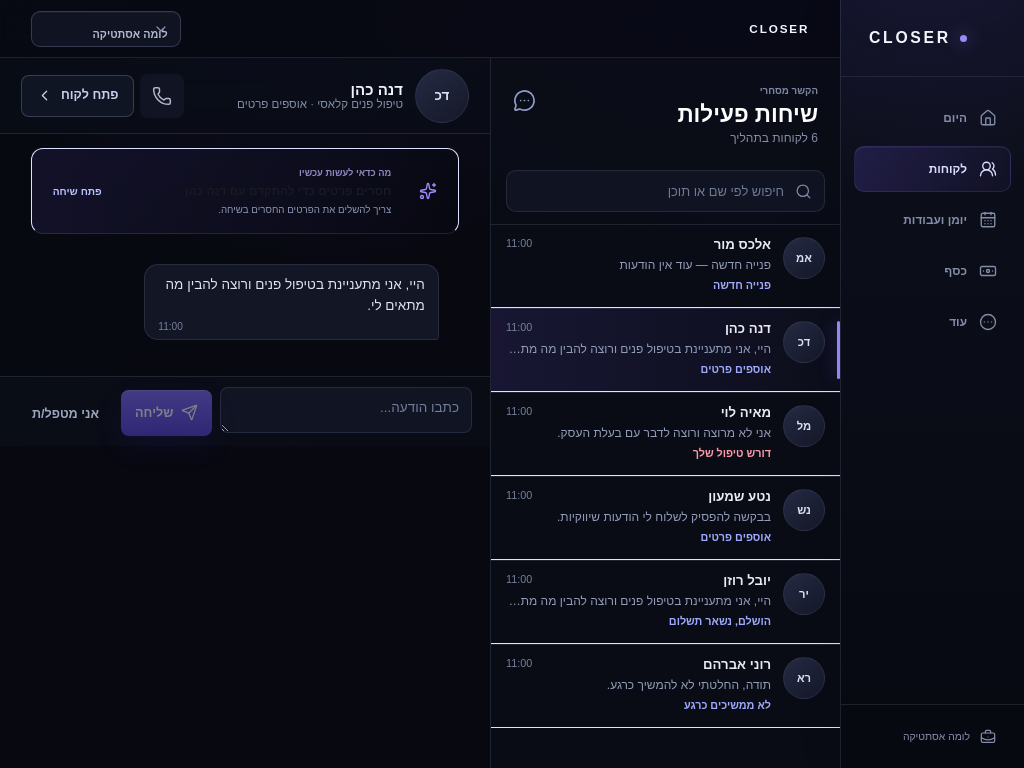
Test: production product experience › sends a mock business message from the inbox composer
Expected: the button "שליחה" is disabled, [121,390,212,436]
Type "היי דנה, איזה יום יתאים לך?" into the text box named "כתיבת הודעה" at (346, 410), box [220,387,472,433]
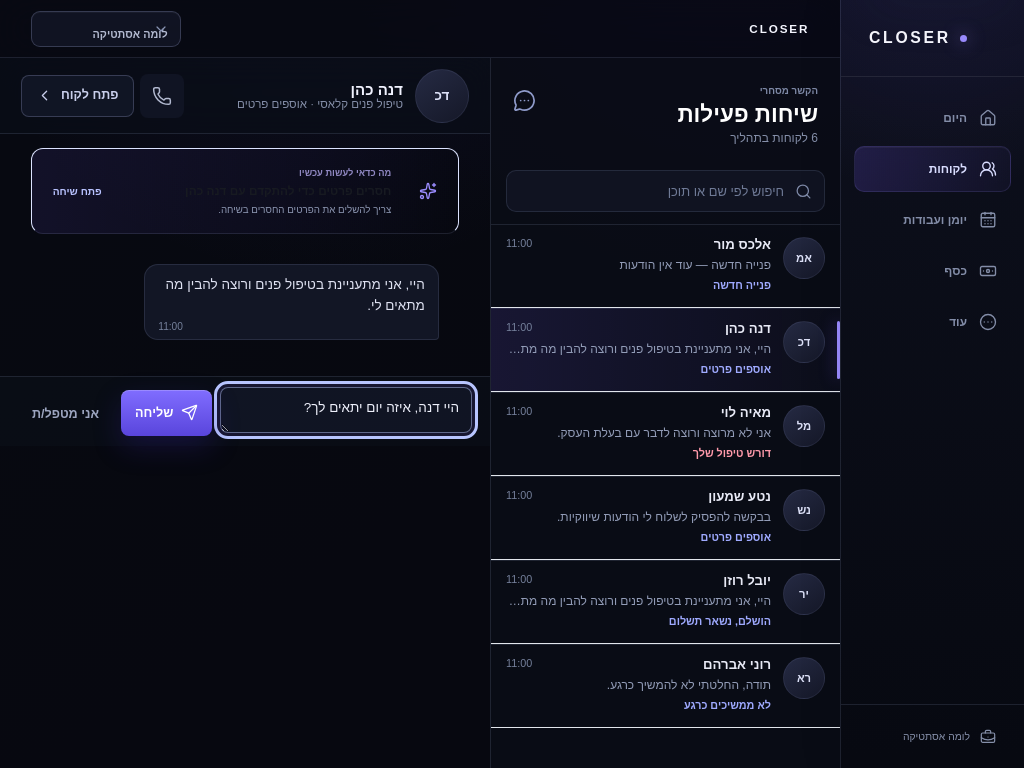
Expected: the button "שליחה" is enabled
Click the button "שליחה" at (167, 413), box [121,390,212,436]
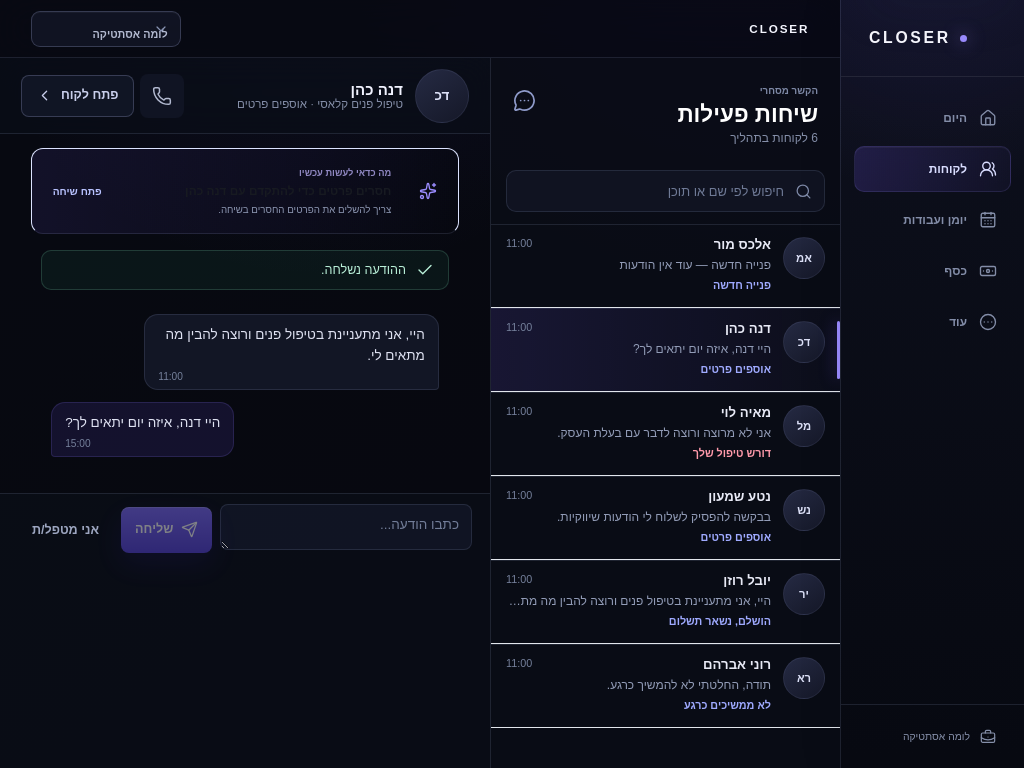
Expected: the message reads "ההודעה נשלחה.", [321,263,406,277]
Expected: the text "היי דנה, איזה יום יתאים לך?" below "לקוחות בתהליך" is shown, [633,342,771,356]
Expected: the button "שליחה" is disabled, [121,507,212,553]
